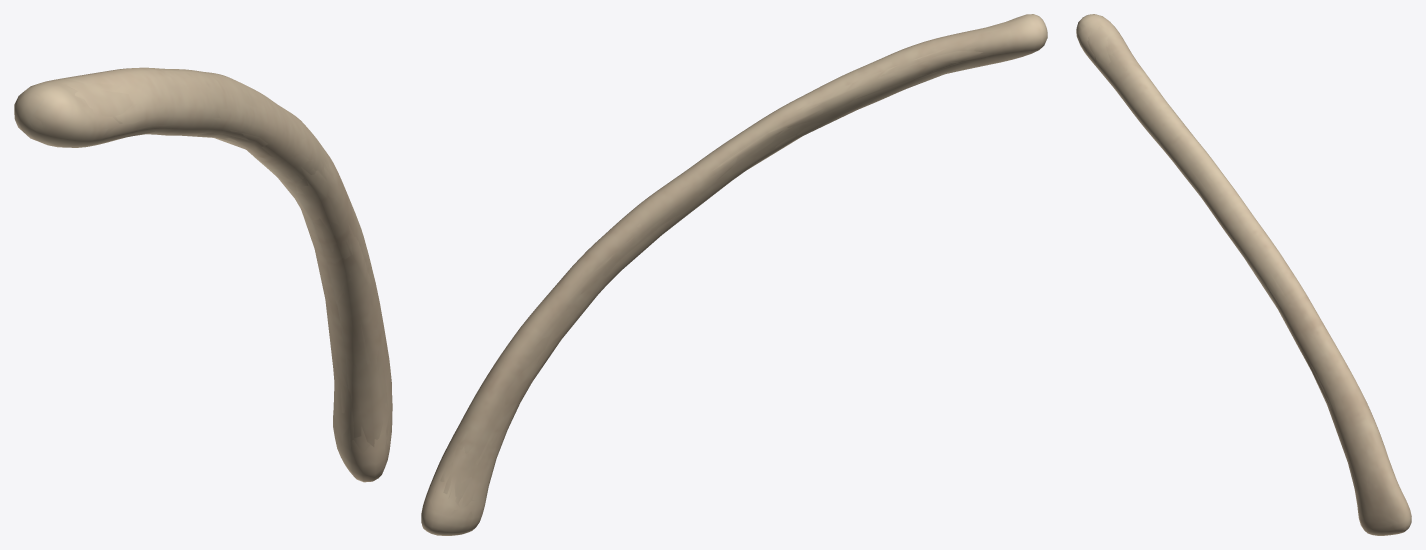
Rendered from Rib L13.fbx.
The picture shows the model from 3 angles, left to right: view 1: azimuth 30°, elevation 25°; view 2: azimuth 150°, elevation 25°; view 3: azimuth 270°, elevation 25°; orthographic projection. The views are drawn at different scales.
Parts seen in each view (by area): view 1: Rib L13 high, Rib L13, Rib L13 low; view 2: Rib L13 high, Rib L13, Rib L13 low; view 3: Rib L13 high, Rib L13, Rib L13 low.
Part boxes in pixels (left/top/right/bottom): Rib L13 high: left=14, top=67, right=392, bottom=481; Rib L13: left=14, top=69, right=392, bottom=482; Rib L13 low: left=61, top=80, right=388, bottom=446; Rib L13 high: left=421, top=16, right=1046, bottom=535; Rib L13: left=421, top=14, right=1047, bottom=535; Rib L13 low: left=440, top=21, right=1010, bottom=503; Rib L13 high: left=1077, top=15, right=1410, bottom=535; Rib L13: left=1076, top=14, right=1411, bottom=535; Rib L13 low: left=1087, top=24, right=1391, bottom=506.
Size of the model in its own units: 11.68 by 12.52 by 10.25.
